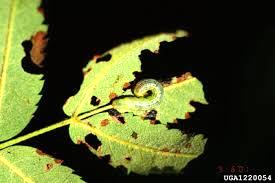Caterpillar: (110, 78, 164, 116)
